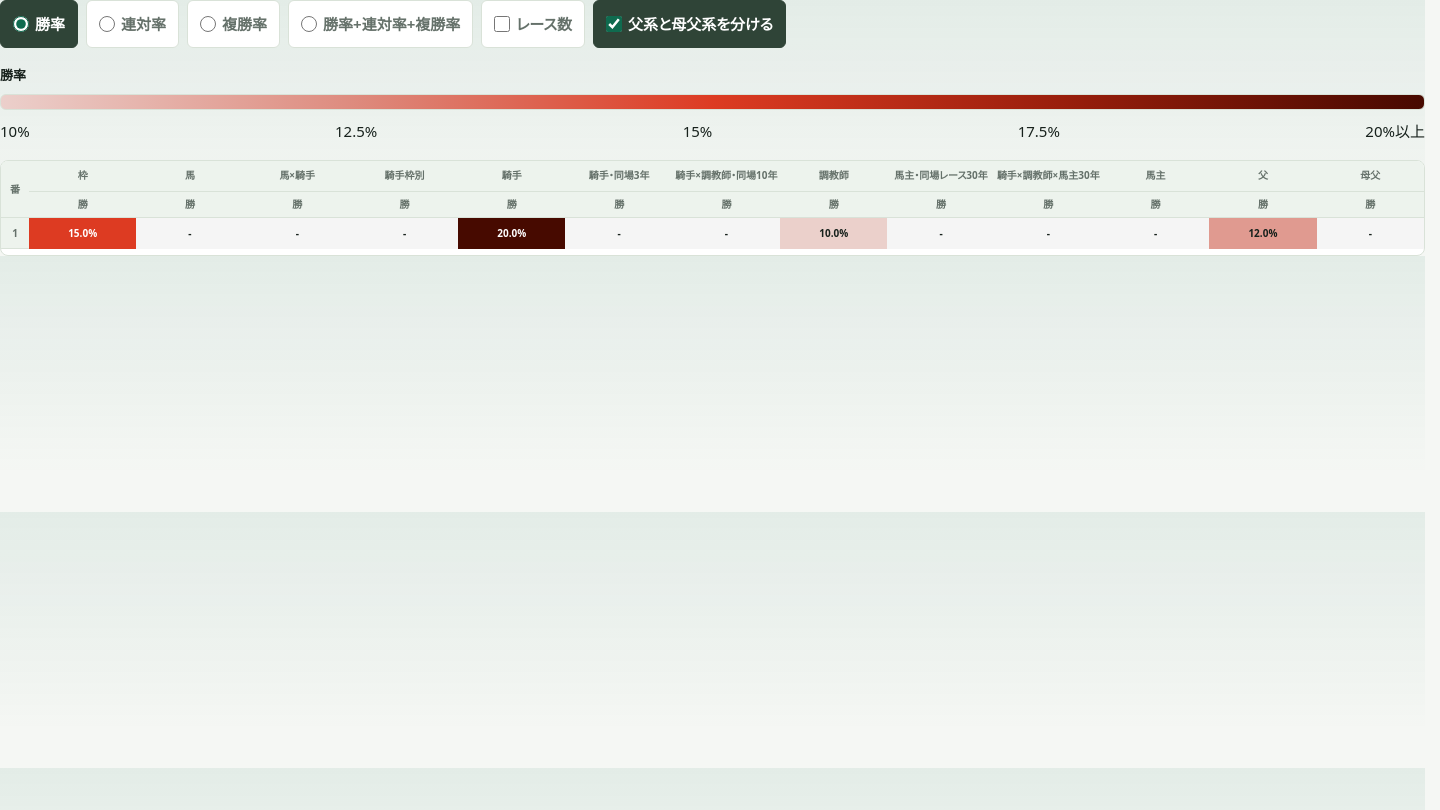
Test: shows per-metric ばんえい color-scale tracks in combined view
This screenshot has width=1440, height=810.
Click the radio button labelled "勝率+連対率+複勝率".
click(309, 24)  # box [301,16,317,32]
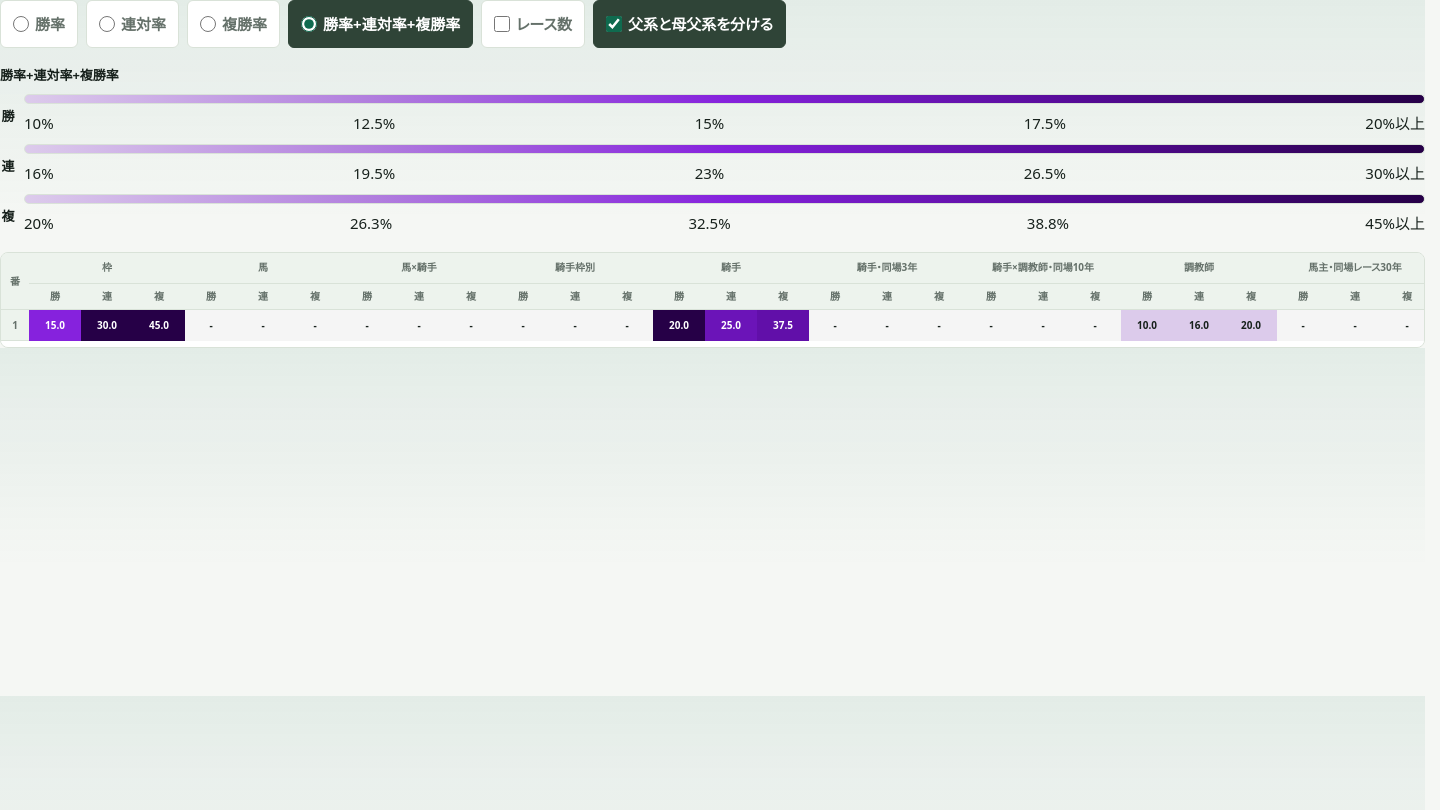
Expected: the text "30%以上" is shown, [1365,158,1425,188]
Expected: the text "45%以上" is shown, [1365,208,1425,238]
Expected: the element named "勝率は10%から20%以上、連対率は16%から30%以上、複勝率は20%から45%以上まで濃くなります" is shown, [0,62,1425,238]
